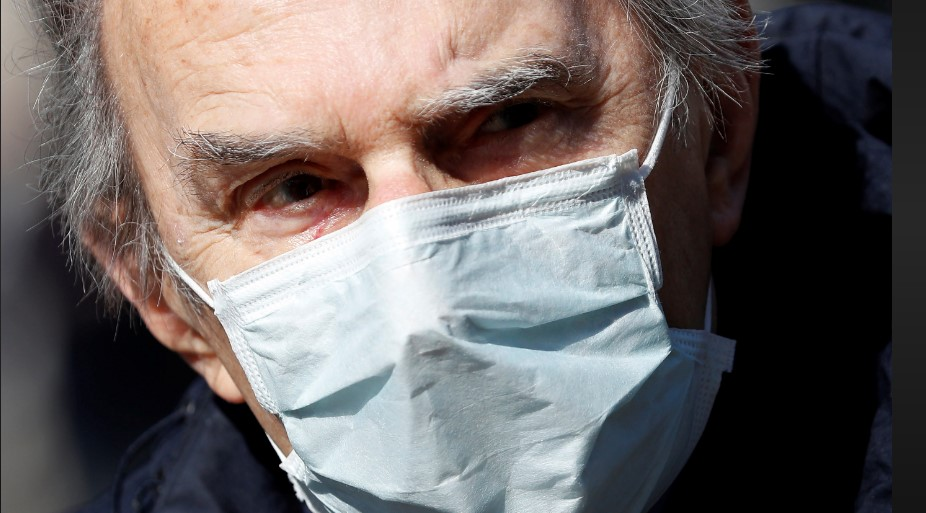face_with_mask: (64, 6, 747, 511)
